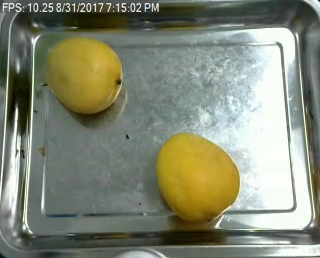Mango: (153, 129, 241, 225), (42, 32, 126, 116)
